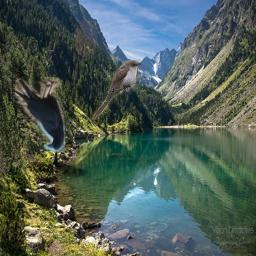Crow: (15, 77, 65, 153)
Cuckoo: (91, 60, 141, 120)
